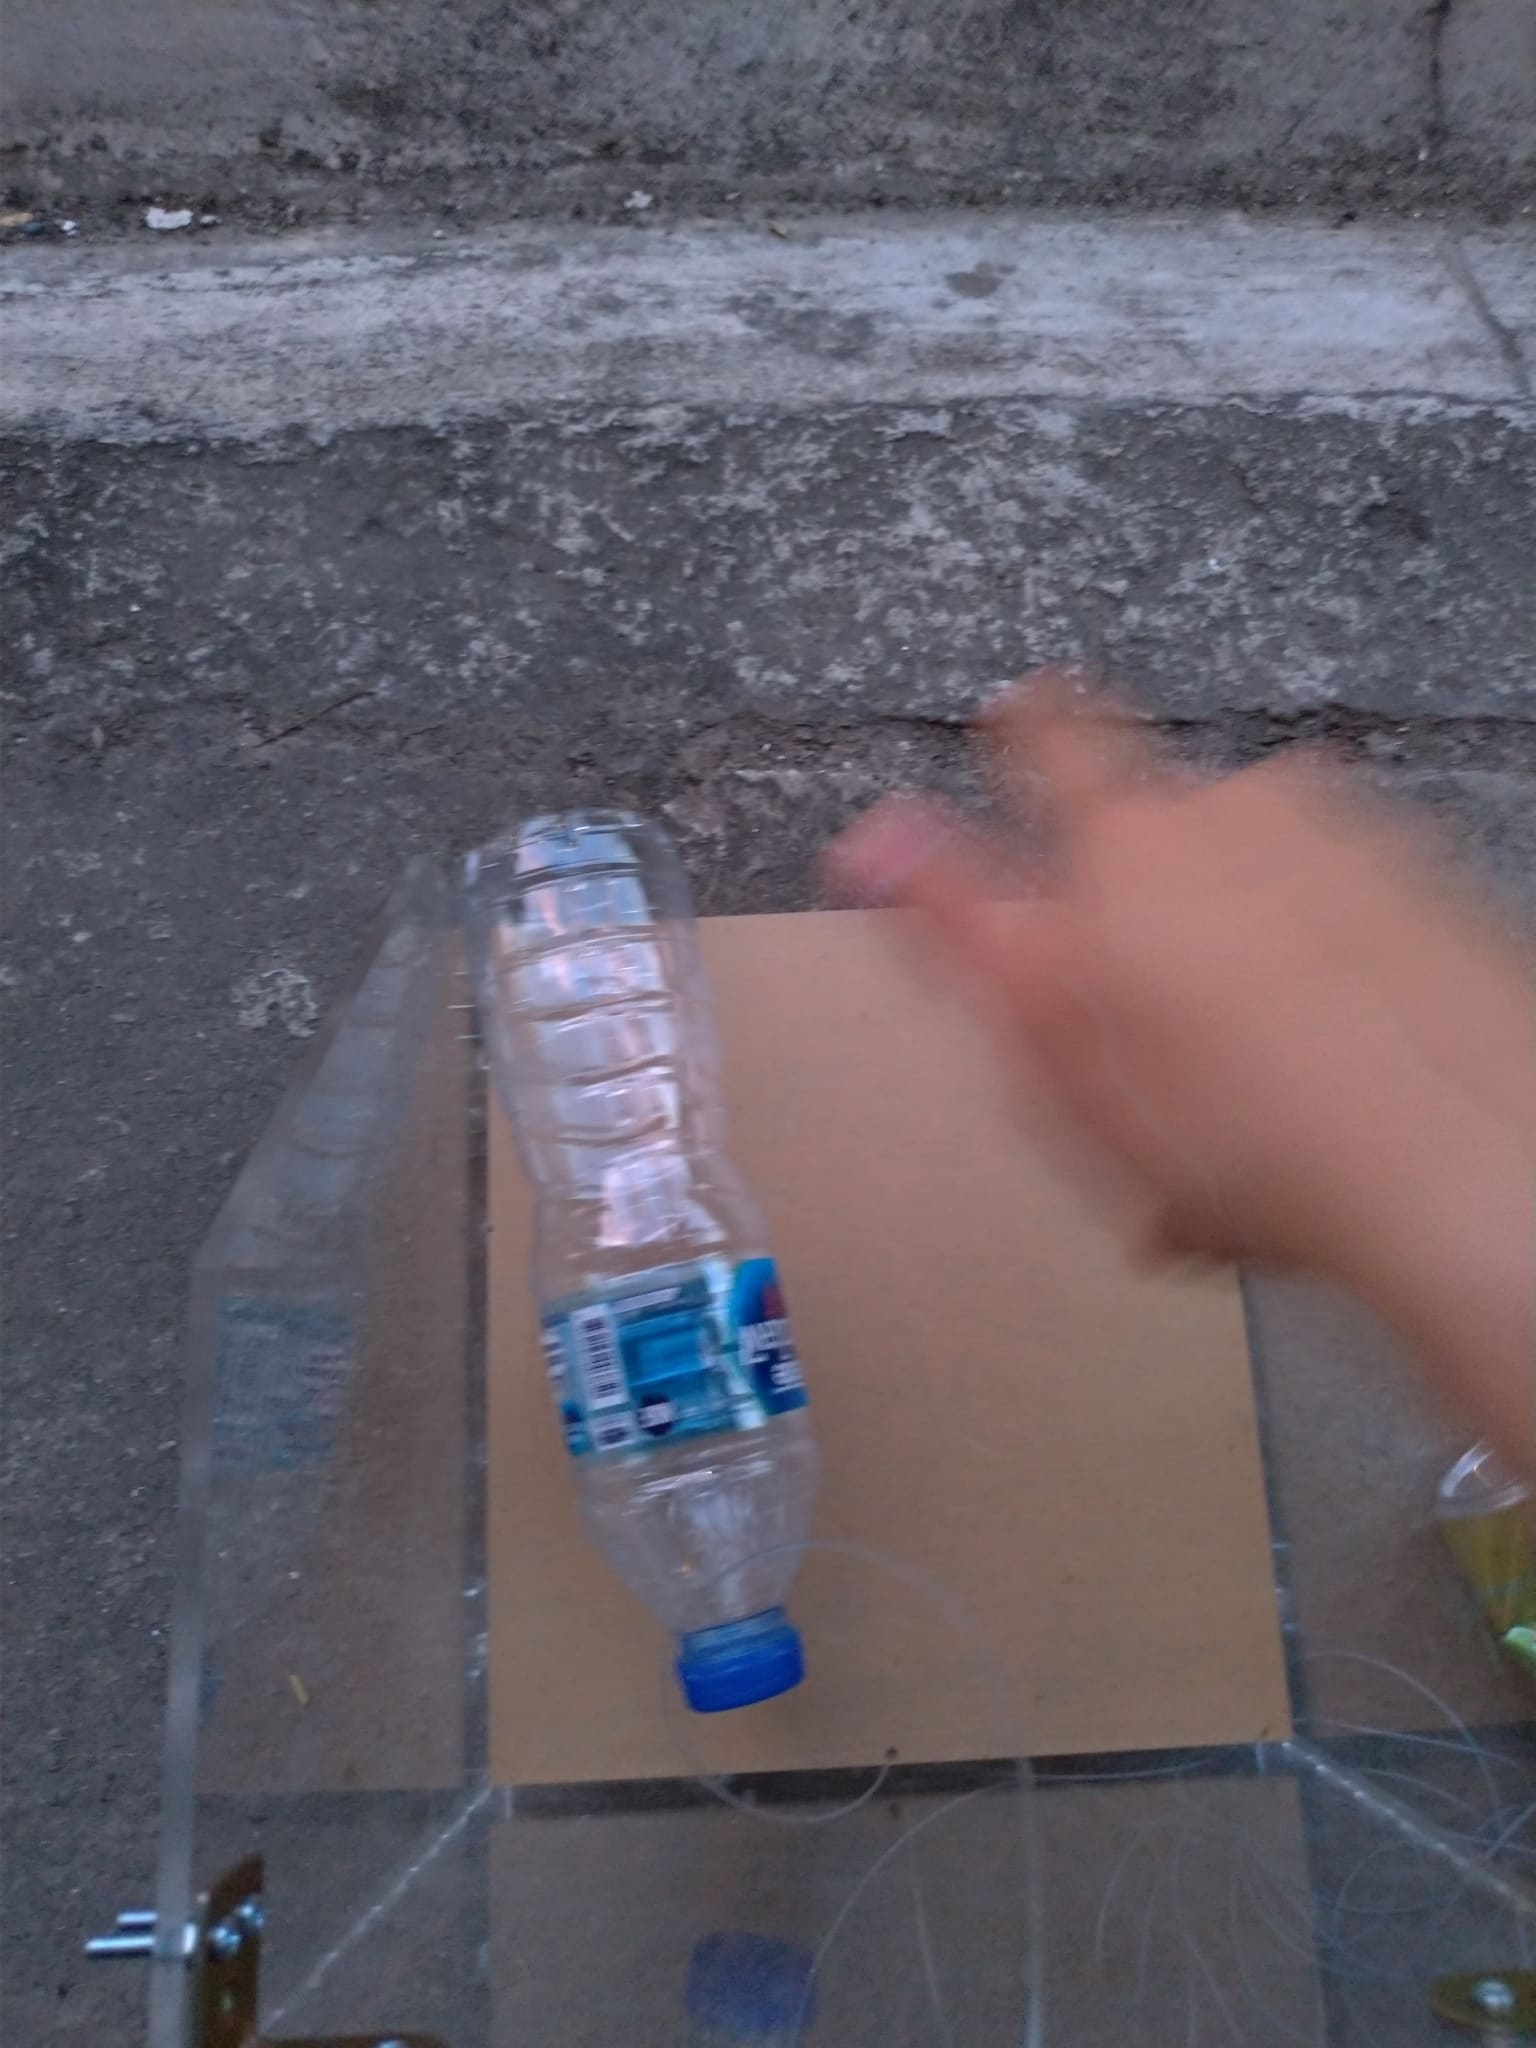PlasticBottle: (453, 813, 815, 1713)
